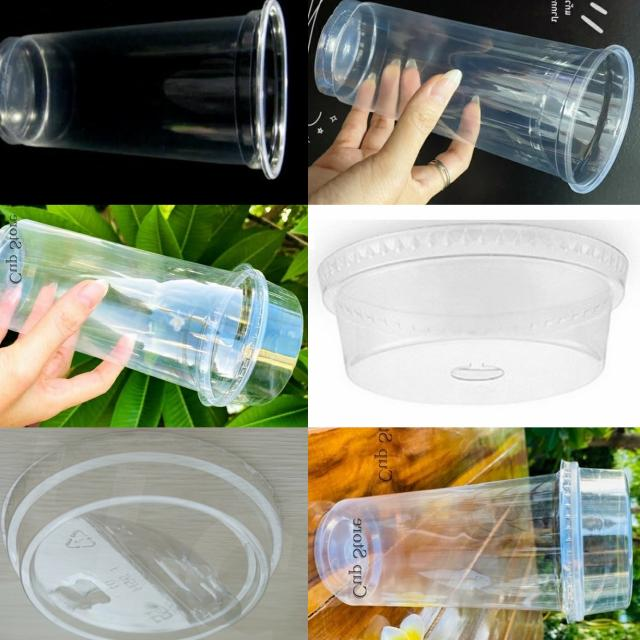plastik: (315, 0, 633, 194), (3, 431, 282, 640), (0, 220, 303, 406), (319, 225, 627, 405), (0, 0, 287, 179), (315, 462, 632, 621)
